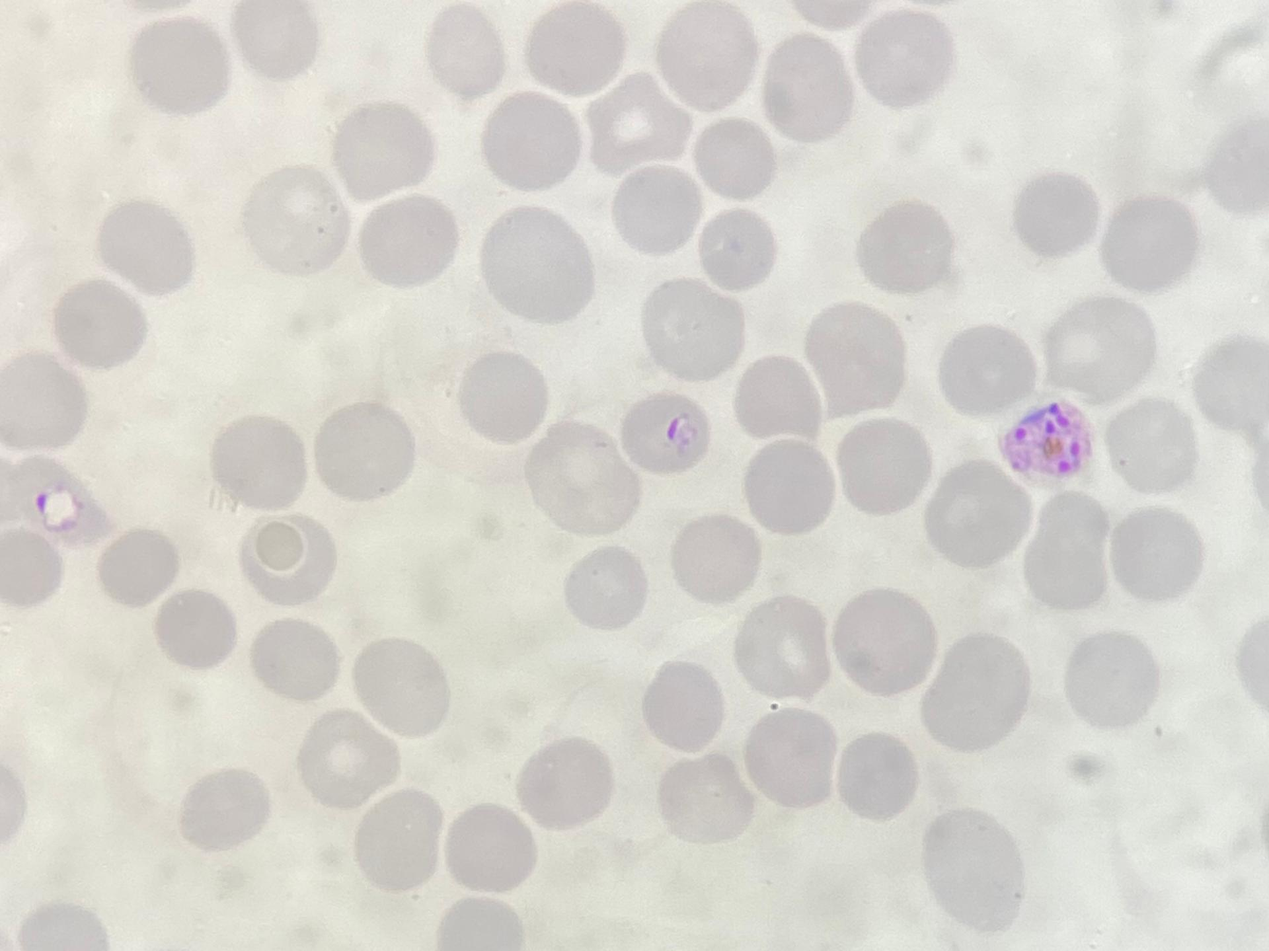Infected: (2, 451, 111, 556), (620, 393, 713, 476), (1001, 398, 1093, 479)
Uninfected: (479, 206, 595, 321), (919, 634, 1029, 751), (524, 425, 640, 535), (919, 810, 1024, 930), (830, 586, 938, 697), (923, 461, 1030, 570), (802, 307, 908, 417), (732, 596, 839, 703), (241, 166, 348, 272), (1045, 295, 1154, 399), (585, 75, 693, 178), (643, 276, 745, 383), (479, 90, 585, 192), (312, 401, 417, 503), (855, 197, 961, 298), (1022, 493, 1114, 609), (331, 101, 438, 200), (655, 3, 757, 106), (742, 706, 843, 808), (357, 193, 462, 291), (853, 9, 954, 109), (352, 636, 453, 736), (207, 414, 309, 513), (353, 790, 449, 894), (95, 199, 196, 297), (1097, 194, 1196, 291), (1106, 505, 1203, 604), (128, 17, 229, 112), (238, 514, 340, 608), (455, 350, 552, 448), (741, 436, 837, 535), (297, 708, 396, 804), (515, 738, 615, 833), (761, 34, 855, 135), (835, 418, 931, 516), (1063, 630, 1159, 728), (524, 4, 625, 97), (938, 324, 1038, 416), (1102, 395, 1196, 492), (610, 163, 707, 256), (0, 348, 90, 448), (52, 277, 149, 369), (657, 754, 755, 844), (442, 802, 537, 894), (670, 514, 763, 605), (539, 672, 636, 759), (641, 659, 729, 754), (249, 617, 344, 704), (178, 767, 271, 854), (835, 730, 921, 821), (1013, 172, 1102, 259), (1189, 340, 1268, 437), (738, 358, 825, 446), (424, 5, 508, 96), (698, 201, 780, 293), (150, 586, 237, 672), (693, 116, 778, 201), (96, 527, 181, 610), (562, 546, 648, 628), (231, 1, 319, 81), (1197, 116, 1266, 215), (436, 896, 524, 947), (252, 520, 305, 572)
